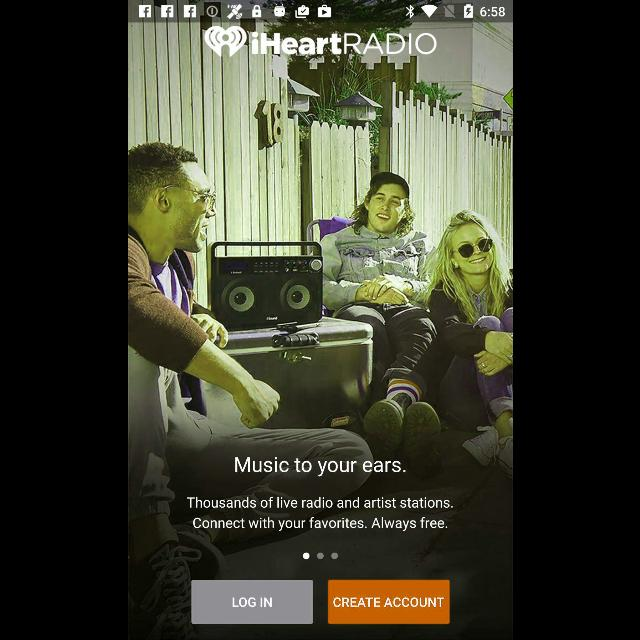backgroundimage: (128, 22, 512, 640)
image: (204, 26, 436, 58)
pageindicator: (302, 552, 338, 560)
text: (185, 496, 452, 532), (234, 457, 406, 478)
textbutton: (327, 580, 449, 624), (191, 580, 313, 624)
uppertaskbar: (128, 1, 512, 23)
